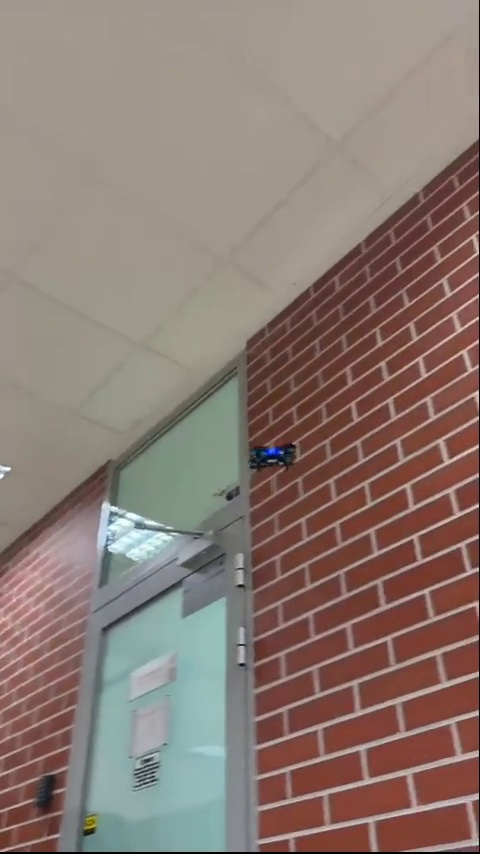drone: (246, 446, 303, 473)
